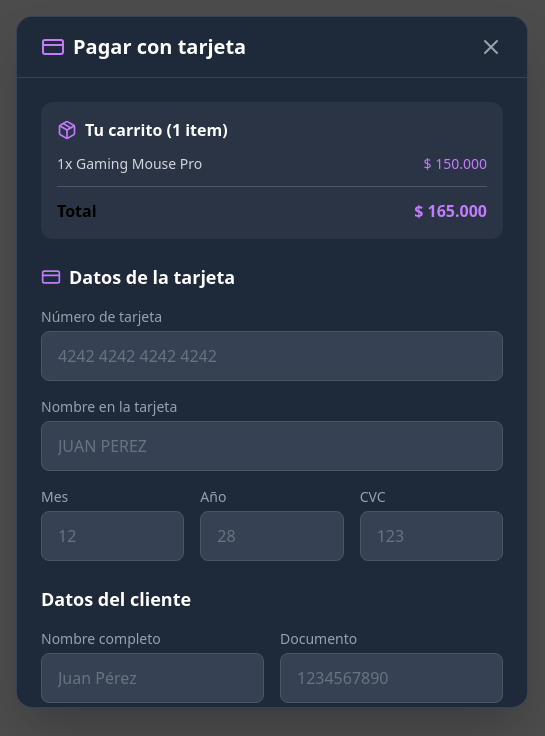
Test: PaymentModal › Card Input › formats card number with spaces
In the field with placeholder "4242 4242 4242 4242": (272, 356) [41,331,503,381], type "4111111111111111"
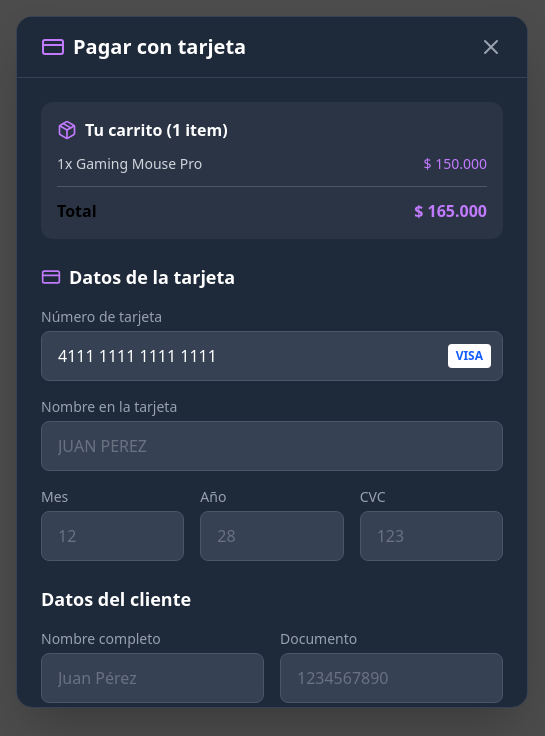
Now the field with placeholder "4242 4242 4242 4242" holds "4111 1111 1111 1111", box [41,331,503,381]
